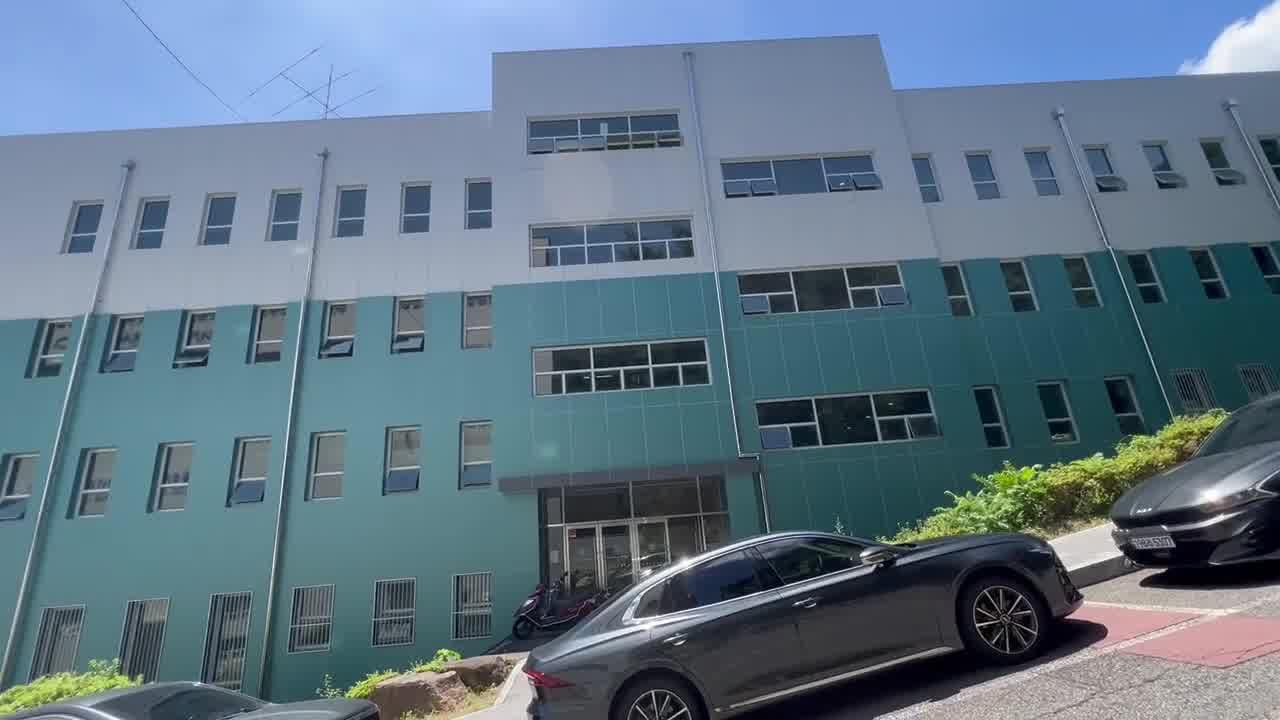building: (40, 28, 997, 540)
